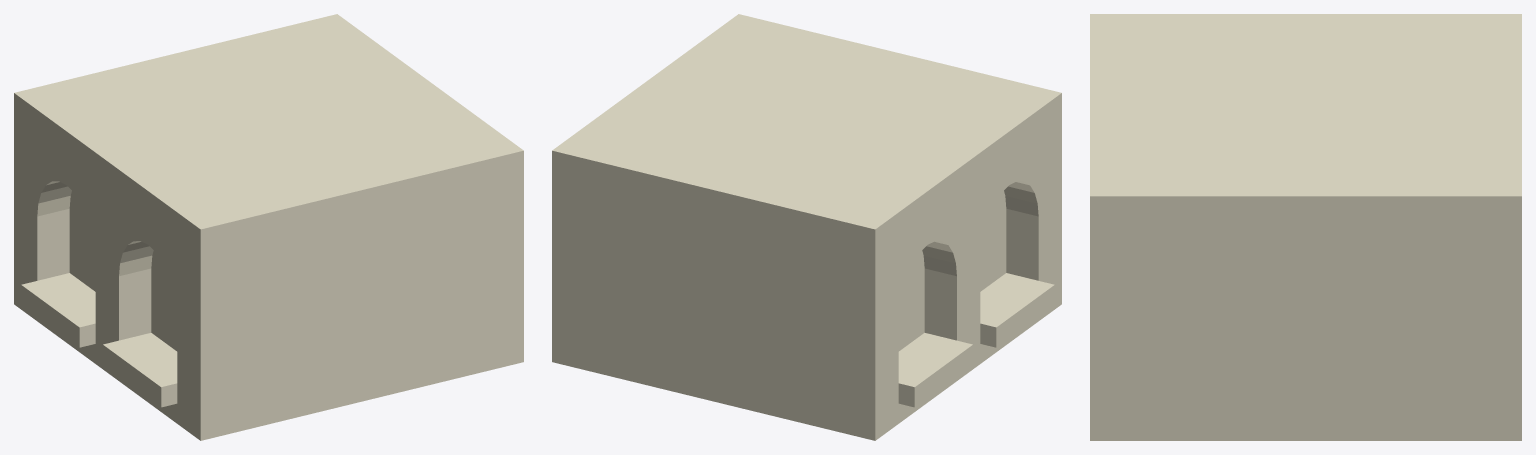
Rendered from modularbuildings_030.glb.
3 renders of one model, left to right at view 1: azimuth 30°, elevation 25°; view 2: azimuth 150°, elevation 25°; view 3: azimuth 270°, elevation 25°, orthographic. The views are drawn at different scales.
Visible parts, largest first — view 1: Mesh1 Group1 Model; view 2: Mesh1 Group1 Model; view 3: Mesh1 Group1 Model.
Boxes of the visible parts, x1,y1,x2,y2 form: Mesh1 Group1 Model: (14, 14, 523, 440); Mesh1 Group1 Model: (552, 14, 1061, 440); Mesh1 Group1 Model: (1090, 14, 1521, 440).
Bounding box in the file's own units: 1.05 × 0.625 × 1.
